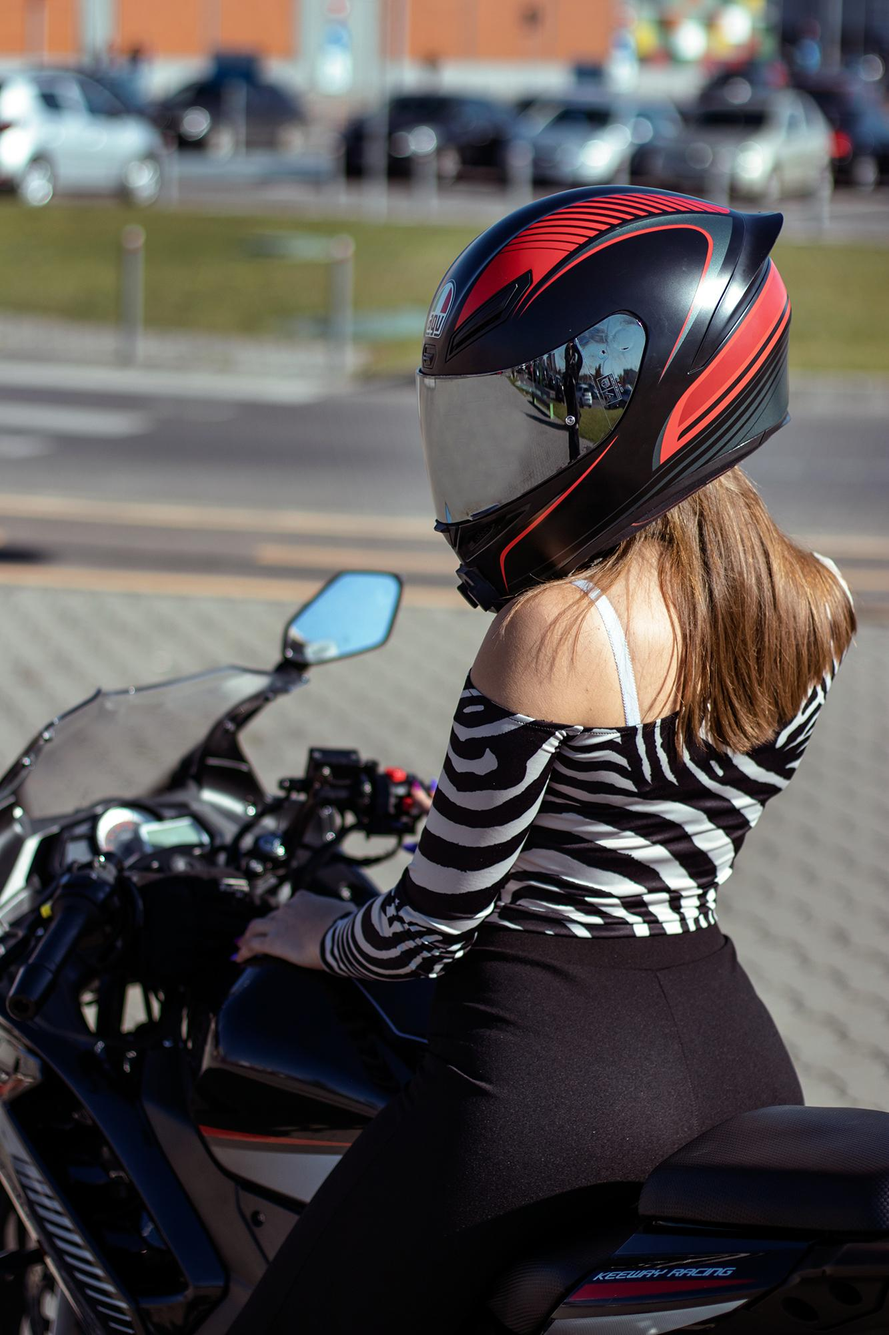helmet: (414, 180, 796, 616)
